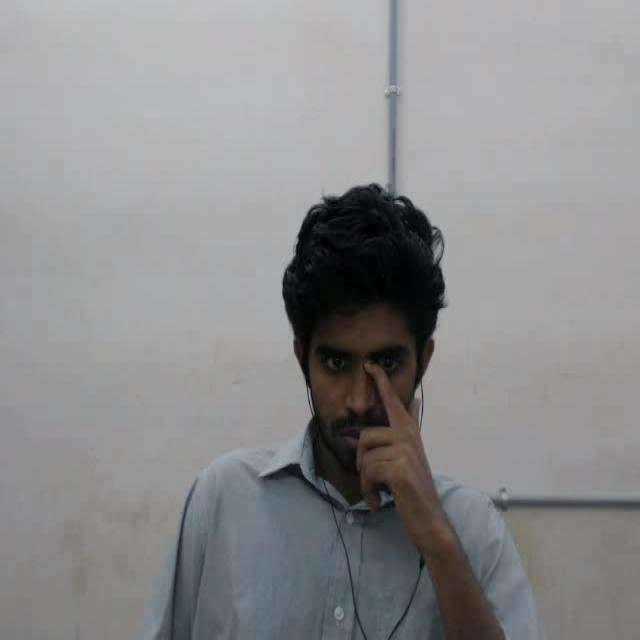Bored: (260, 168, 535, 526)
